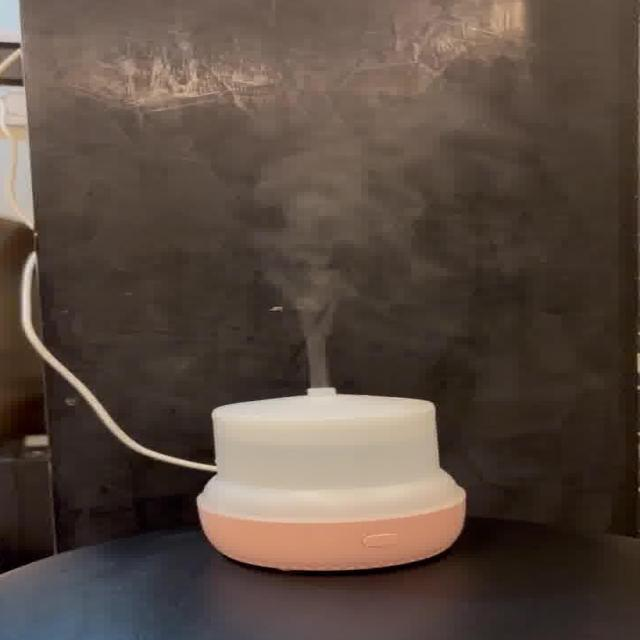fire: (236, 137, 418, 384)
